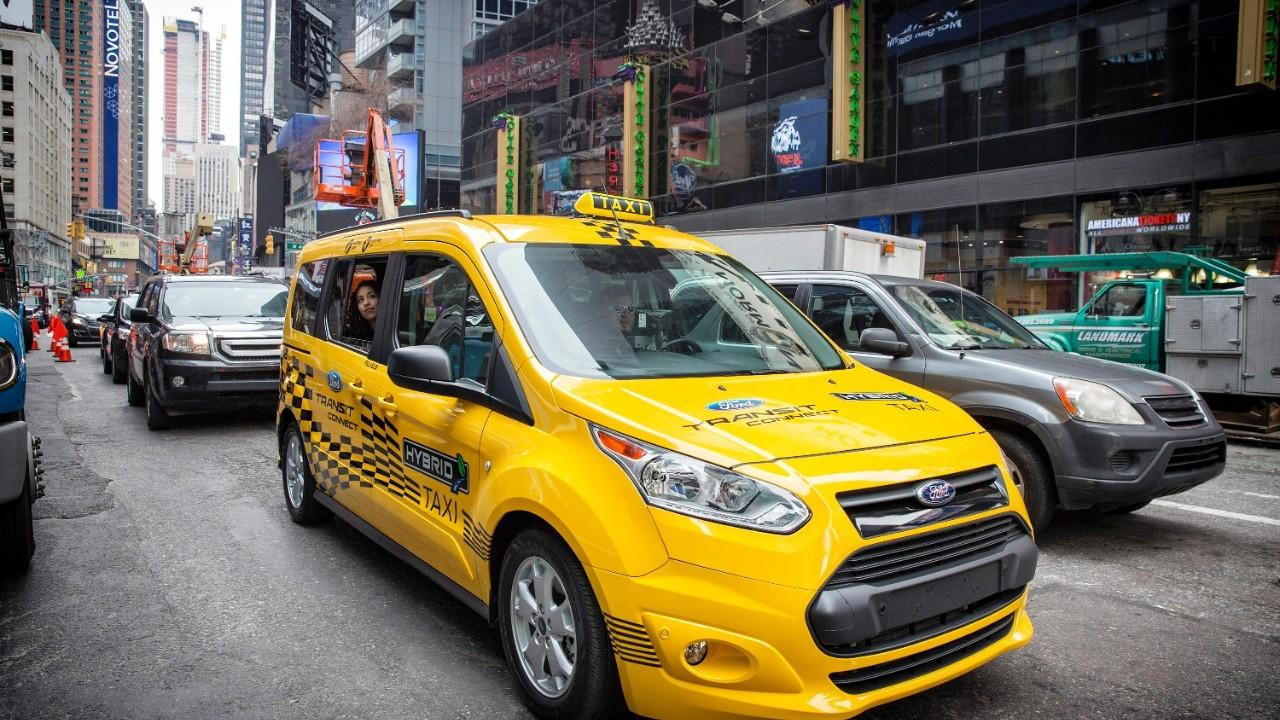taxi: (271, 222, 1045, 713)
